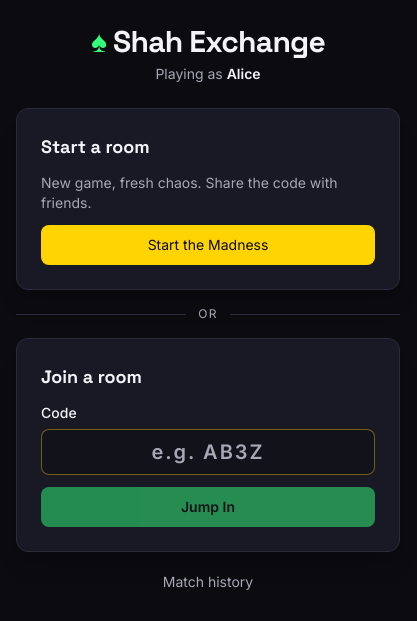
Scenario: LobbyPage › shows error alert when create fails
Click the button with aria-label "create room" at x=208, y=245, box [41,225,375,265]
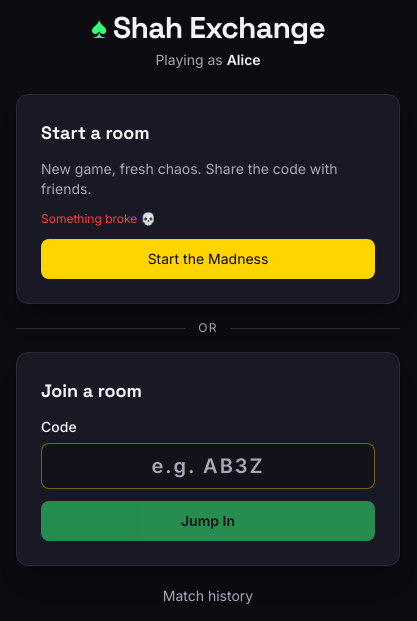
Expected: the message "Something broke 💀" is shown, [41,211,156,226]
